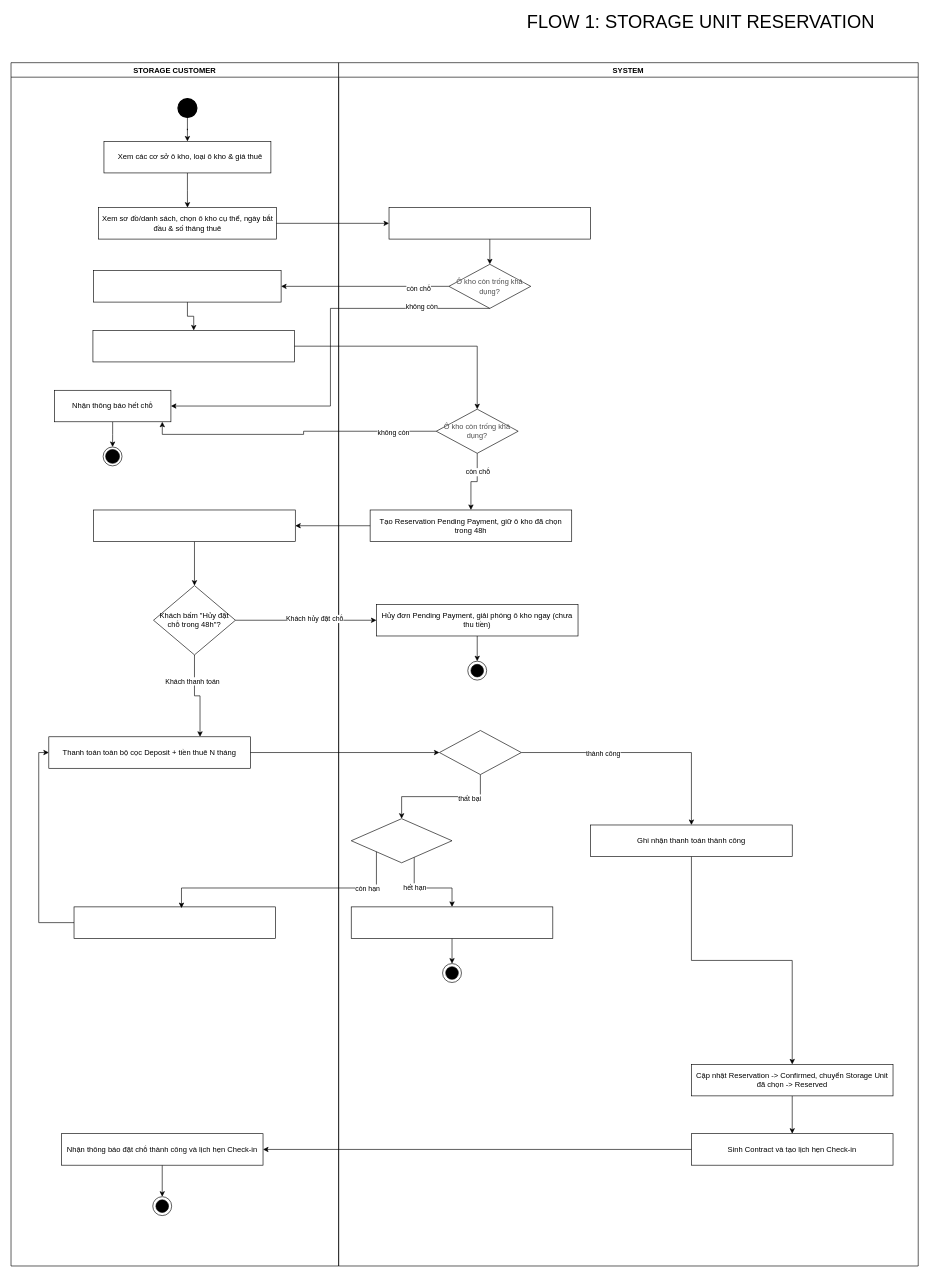
The diagram is 929 pixels wide and 1277 high, and some of its shapes have lost their labels. The centre of each missing label's shape, as x and y in pixels:
Chuyển sang màn hình Thanh toán: [194,525]
Giao dịch thanh toán?: [480,752]
Kiểm tra tính khả dụng của ô kho đã chọn: [489,223]
Quá hạn 48h?: [401,840]
Thông báo giao dịch lỗi, cho phép quét mã thử lại: [174,922]
Tích đồng ý điều khoản & bấm nút "Tiếp tục thanh toán": [193,346]
Xem bảng ước tính chi phí thuê & tiền Deposit: [187,286]
Đổi Reservation -> Expired, giải phóng ô kho: [452,922]
